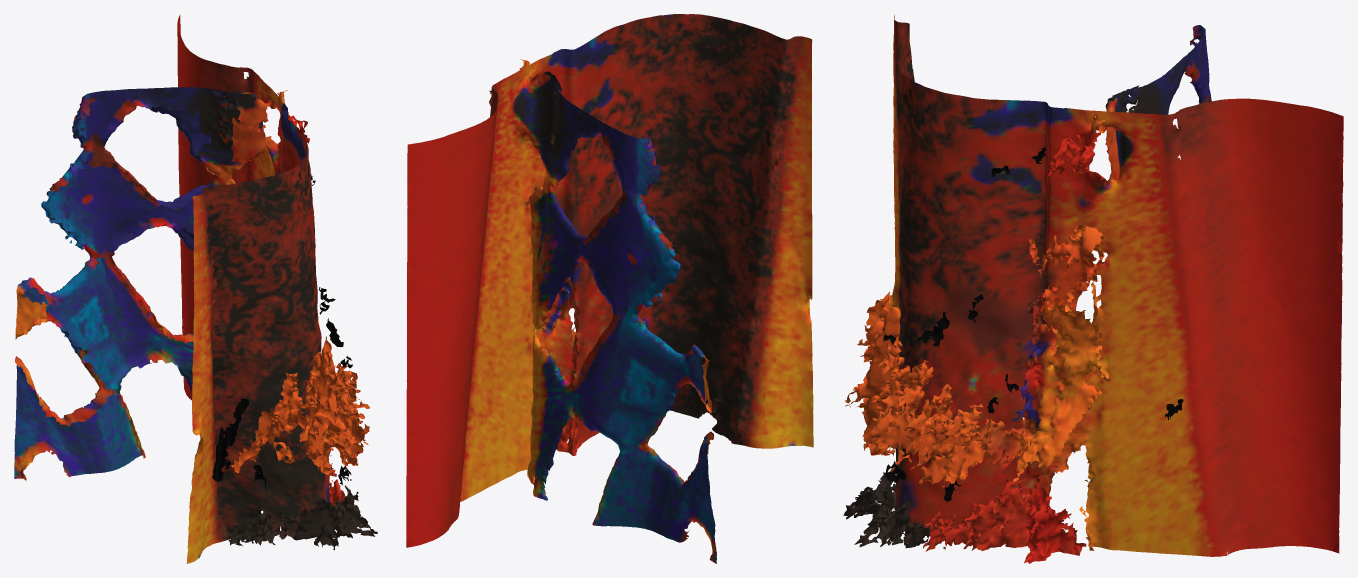
Rendered from tout.glb.
The picture shows the model from 3 angles, left to right: view 1: azimuth 30°, elevation 25°; view 2: azimuth 150°, elevation 25°; view 3: azimuth 270°, elevation 25°; orthographic projection. The views are drawn at different scales.
Parts seen in each view (by area): view 1: Model; view 2: Model; view 3: Model.
Boxes of the visible parts, bbox=[...] form: Model: bbox=[14, 14, 377, 563]; Model: bbox=[406, 14, 813, 563]; Model: bbox=[843, 15, 1343, 563].
Size of the model in its own units: 1.97 by 2.75 by 2.86.
1 material, 1 textured.
